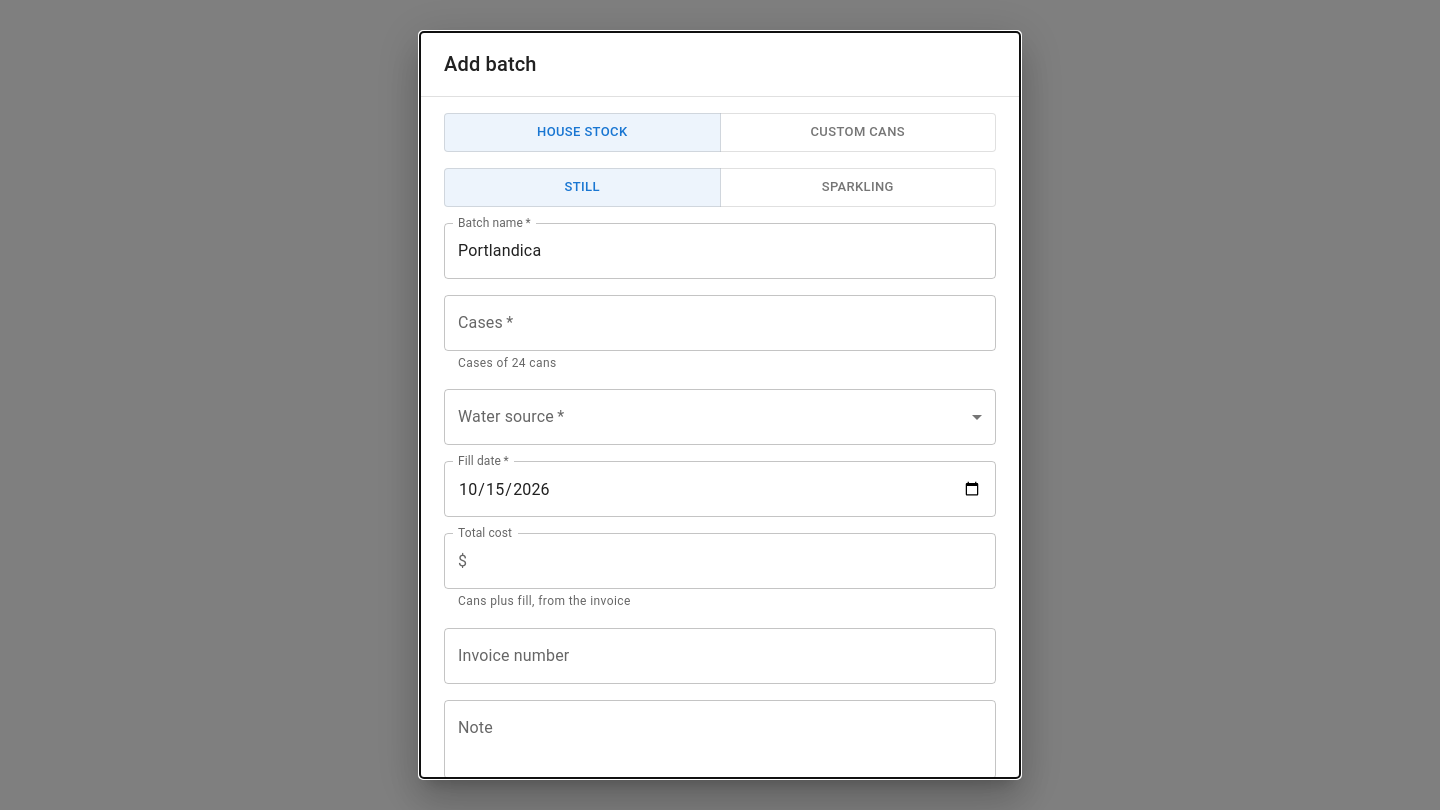
Test: Add batch › says what is missing instead of adding
Type "2.1" into the field labelled "Cases *" at (720, 322), box [444,294,996,350]
(page scrolled)
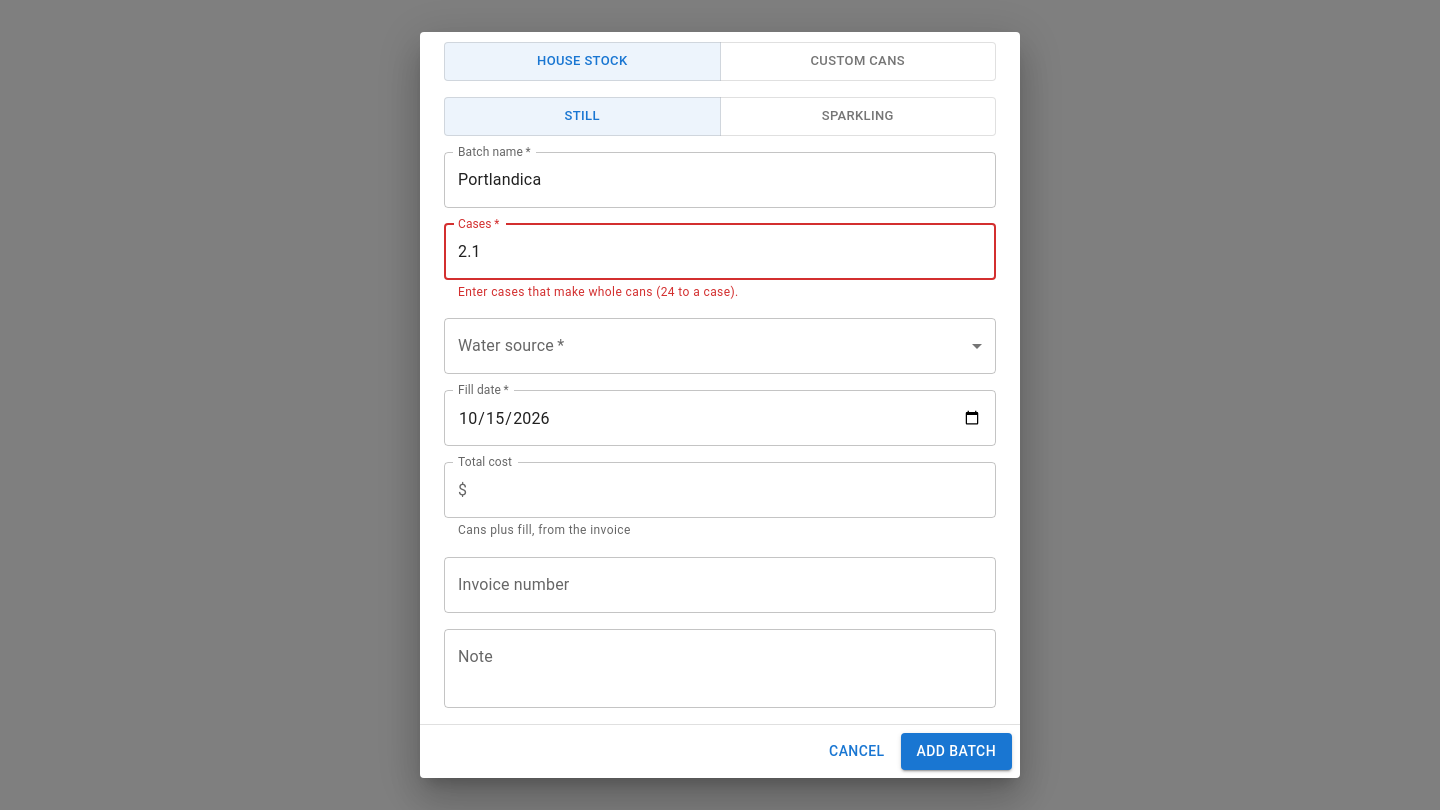
Expected: the text "Enter cases that make whole cans (24 to a case)." is shown, [458,284,739,298]
Click the button "Add batch" at (956, 752), box [900,733,1012,770]
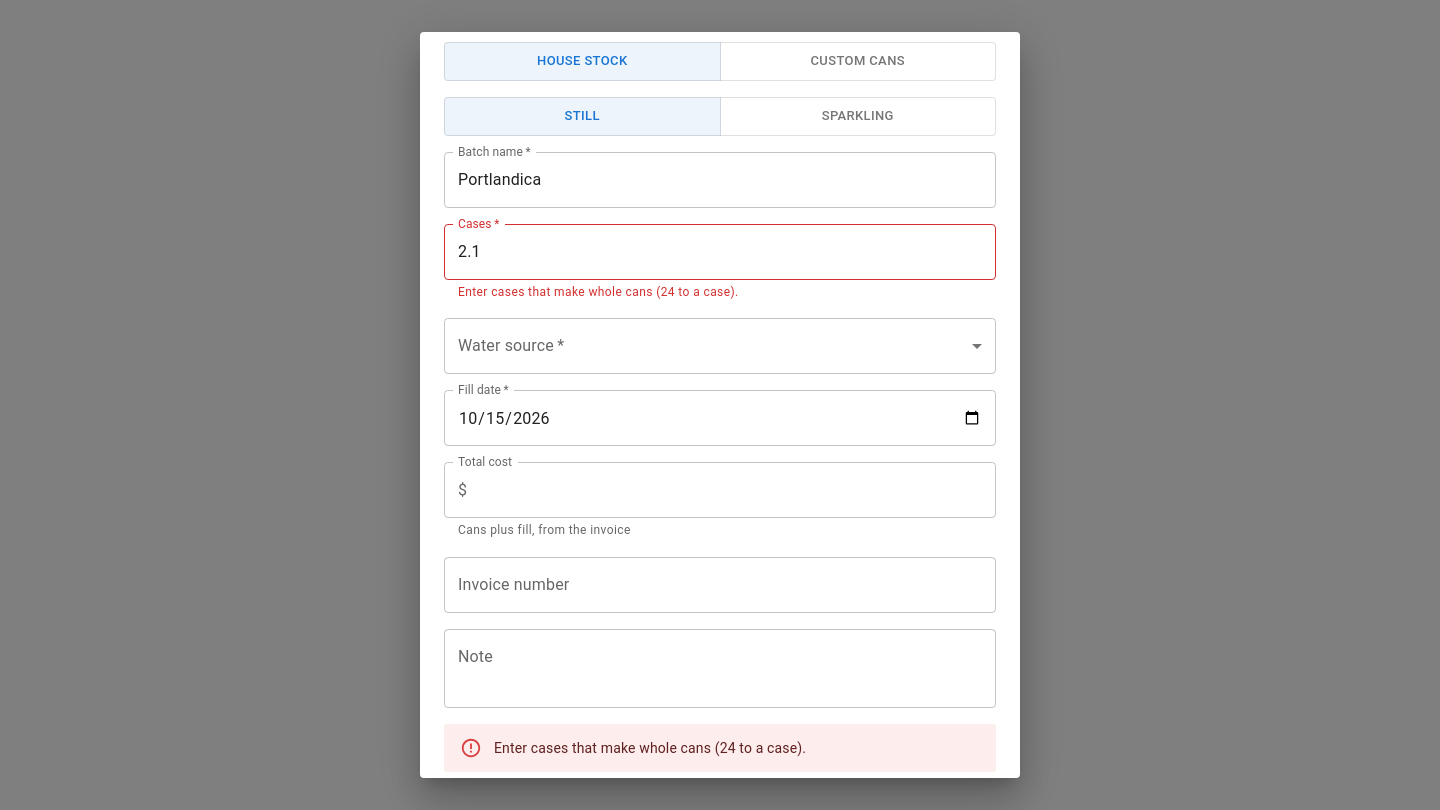
Replace the text in the field labelled "Cases *" with "10" at (720, 252), box [444,224,996,280]
(page scrolled)
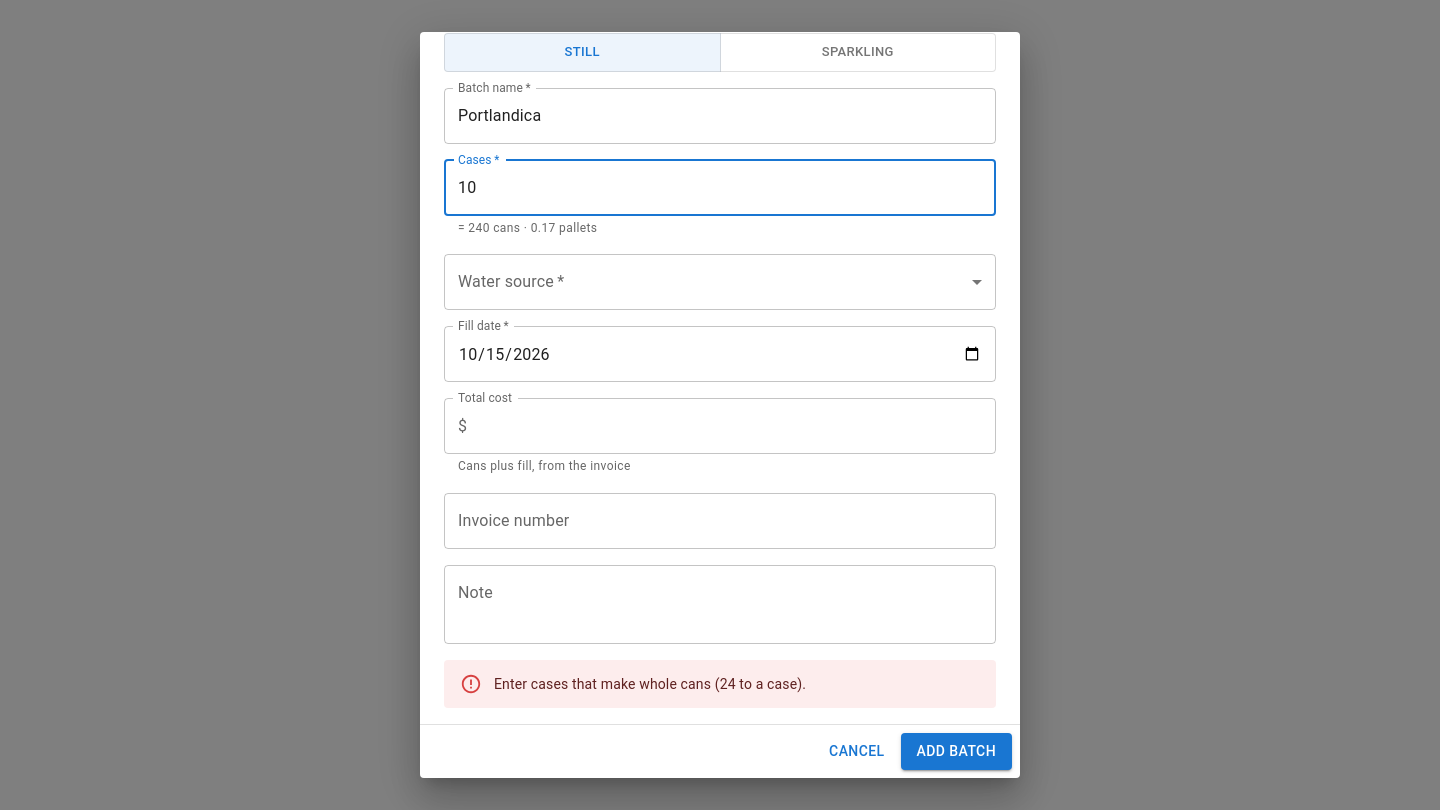
Click the button "Add batch" at (956, 752), box [900,733,1012,770]
(page scrolled)
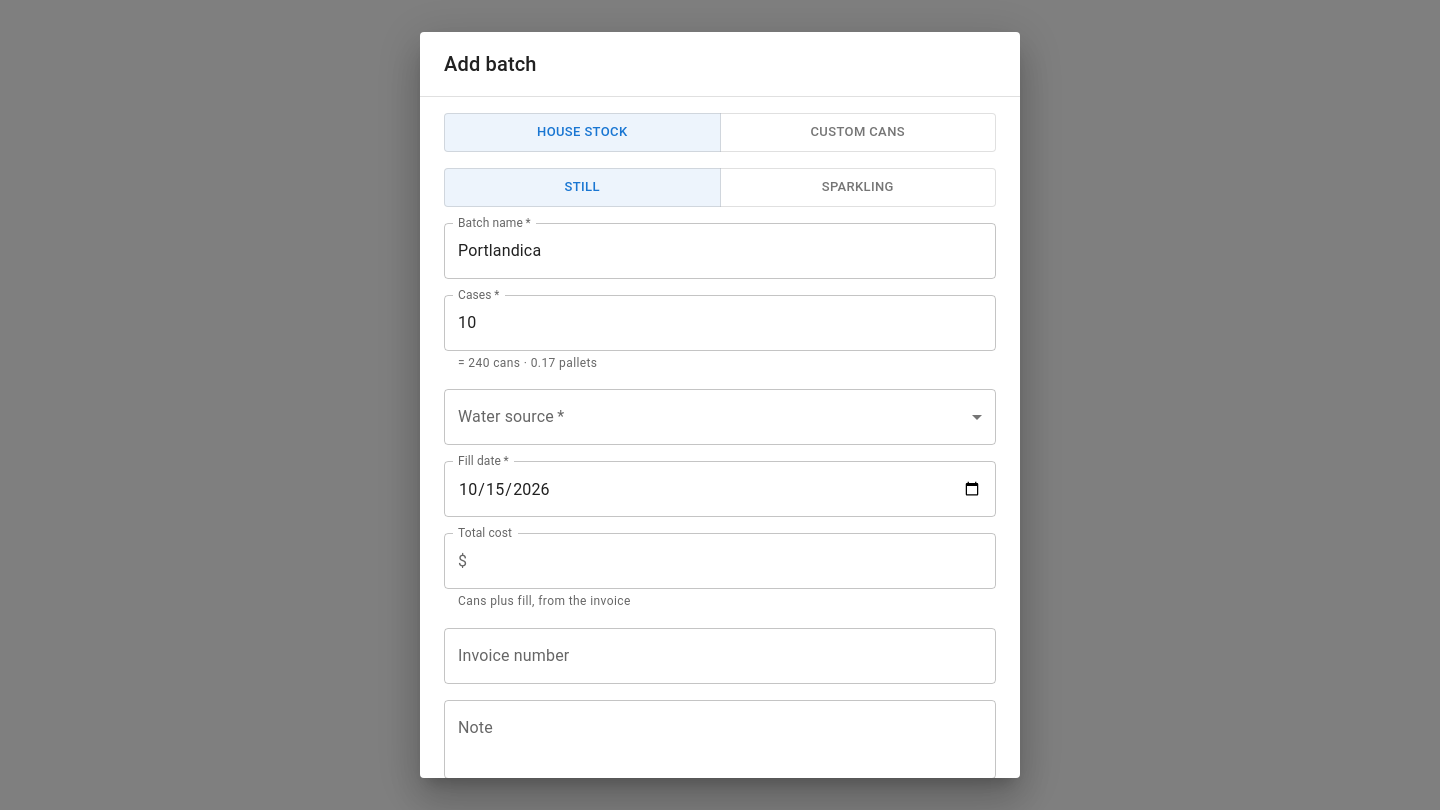
Click the button "Custom cans" at (858, 132), box [720,113,996,152]
(page scrolled)
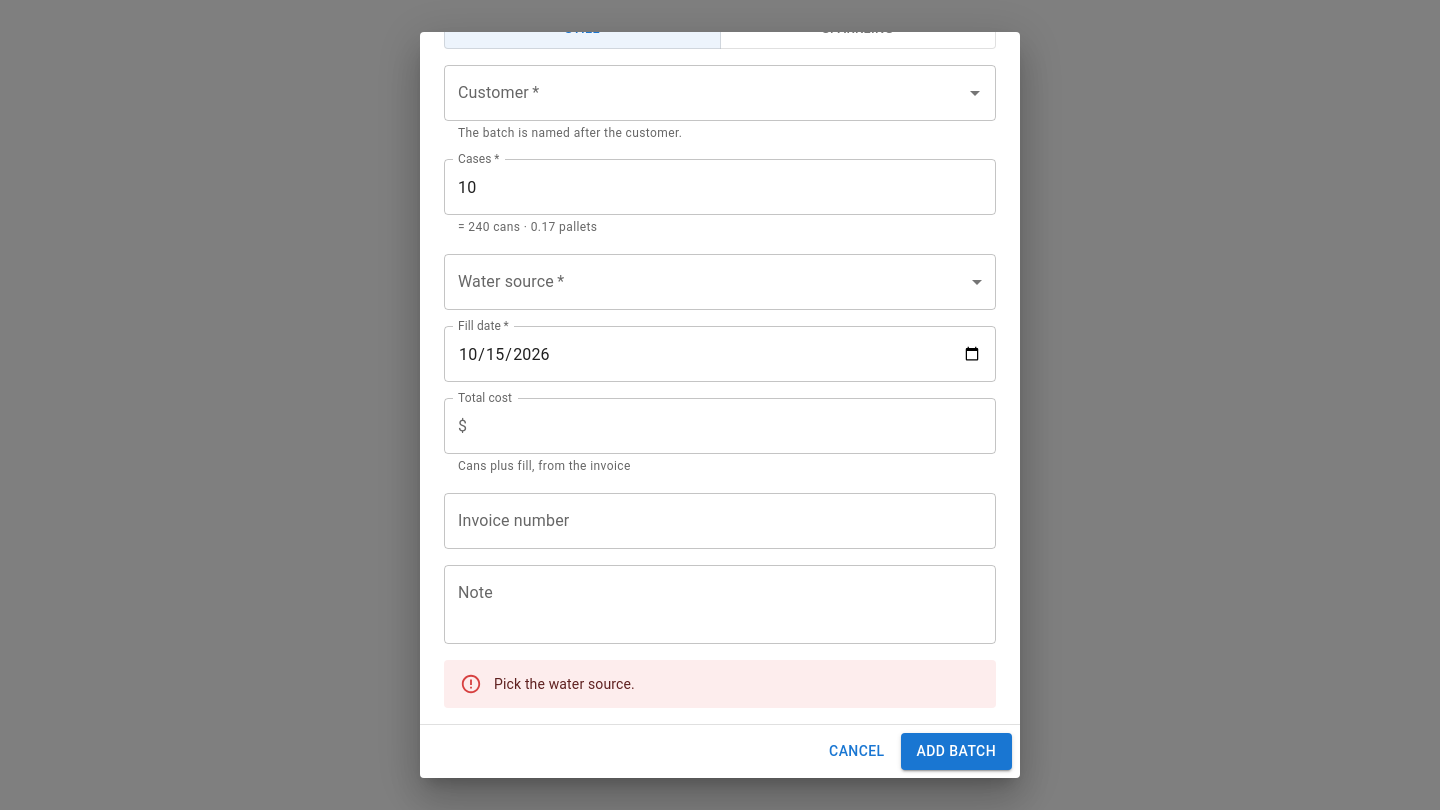
Click the button "Add batch" at (956, 751), box [900,733,1012,770]
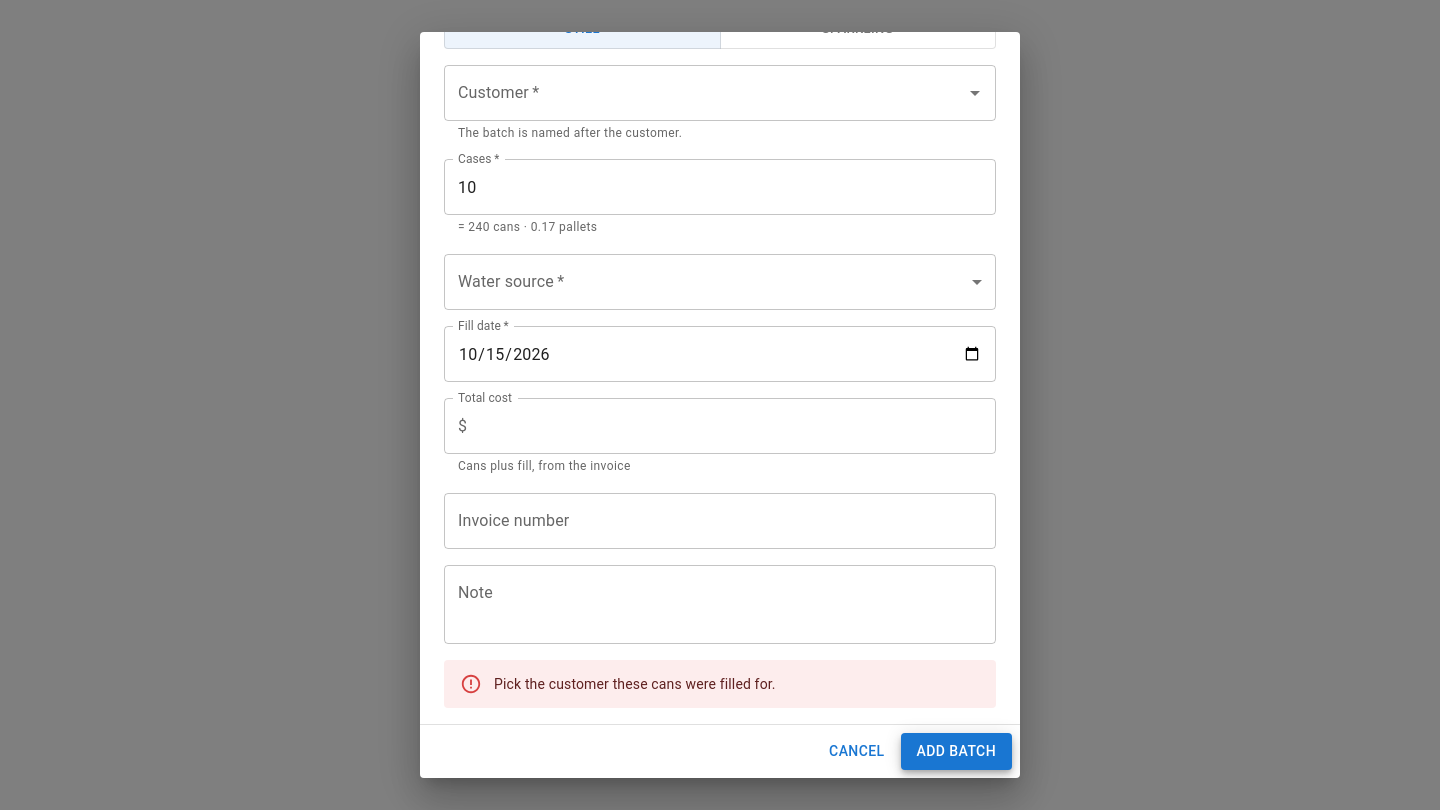
Expected: the text "Pick the customer these cans were filled for." is shown, [494,676,776,692]
